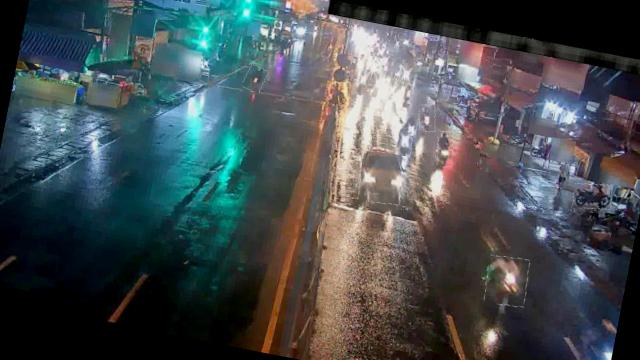Bike: (482, 253, 531, 308), (571, 179, 613, 212), (432, 130, 458, 169), (323, 79, 352, 107), (242, 64, 268, 94), (416, 102, 438, 132), (396, 126, 414, 156), (396, 81, 414, 103), (404, 112, 418, 135)
Car: (356, 147, 408, 206)
